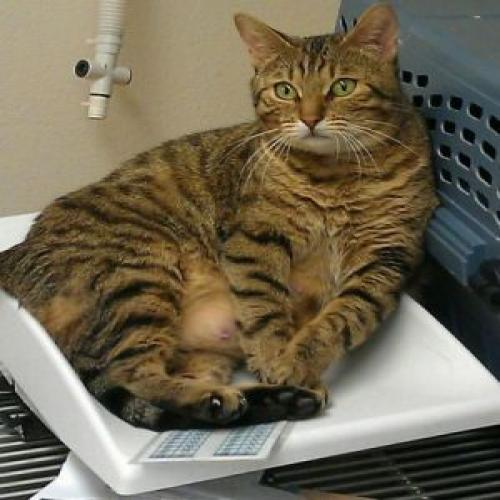bengal: (227, 6, 422, 164)
